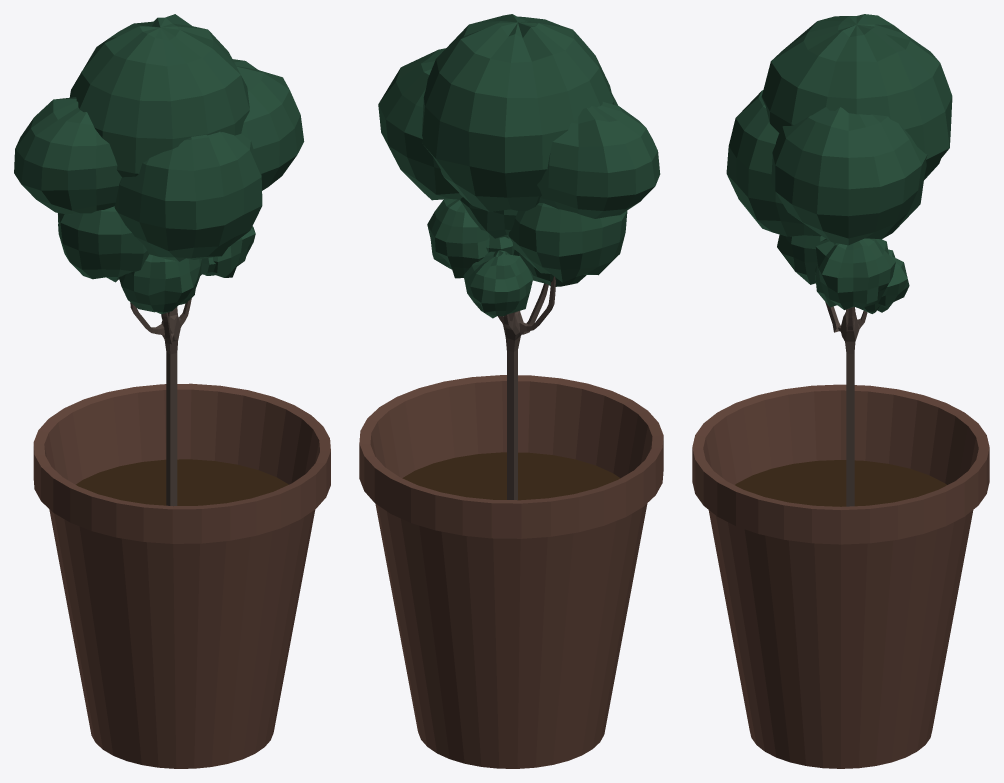
File: abrustre arbre.fbx
3 renders of one model, left to right at view 1: azimuth 30°, elevation 25°; view 2: azimuth 150°, elevation 25°; view 3: azimuth 270°, elevation 25°, orthographic. The views are drawn at different scales.
Parts seen in each view (by area): view 1: Sphere.009; view 2: Sphere.009; view 3: Sphere.009.
Boxes of the visible parts, x1,y1,x2,y2 form: Sphere.009: (14,14,330,768); Sphere.009: (359,14,663,768); Sphere.009: (692,14,989,768).
Size of the model in its own units: 82.45 by 198 by 76.01.
